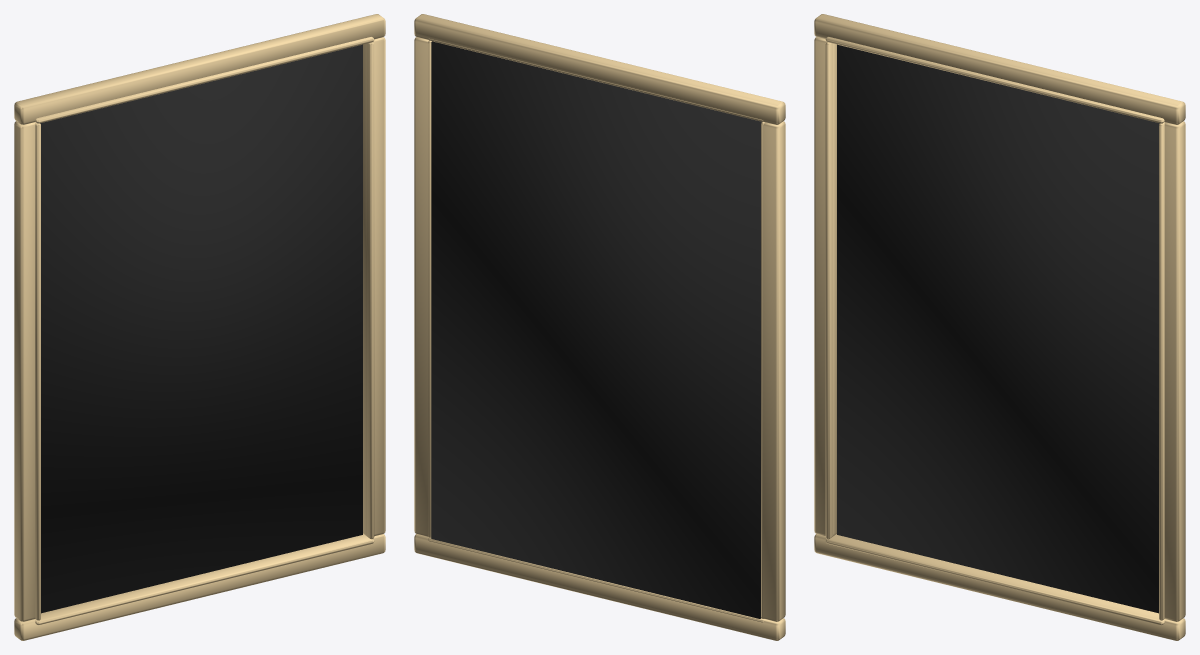
File: mirror_frame_brass.glb
3 renders of one model, left to right at view 1: azimuth 30°, elevation 25°; view 2: azimuth 150°, elevation 25°; view 3: azimuth 330°, elevation 25°, orthographic.
Parts seen in each view (by area): view 1: Backing, Brass; view 2: Backing, Brass; view 3: Backing, Brass.
Part boxes in pixels (left/top/right/bottom): Backing: left=40, top=44, right=362, bottom=613; Brass: left=14, top=14, right=385, bottom=640; Backing: left=431, top=41, right=761, bottom=618; Brass: left=414, top=14, right=785, bottom=640; Backing: left=837, top=44, right=1159, bottom=613; Brass: left=814, top=14, right=1185, bottom=640.
Bounding box in the file's own units: 1.5 × 2.1 × 0.075.
